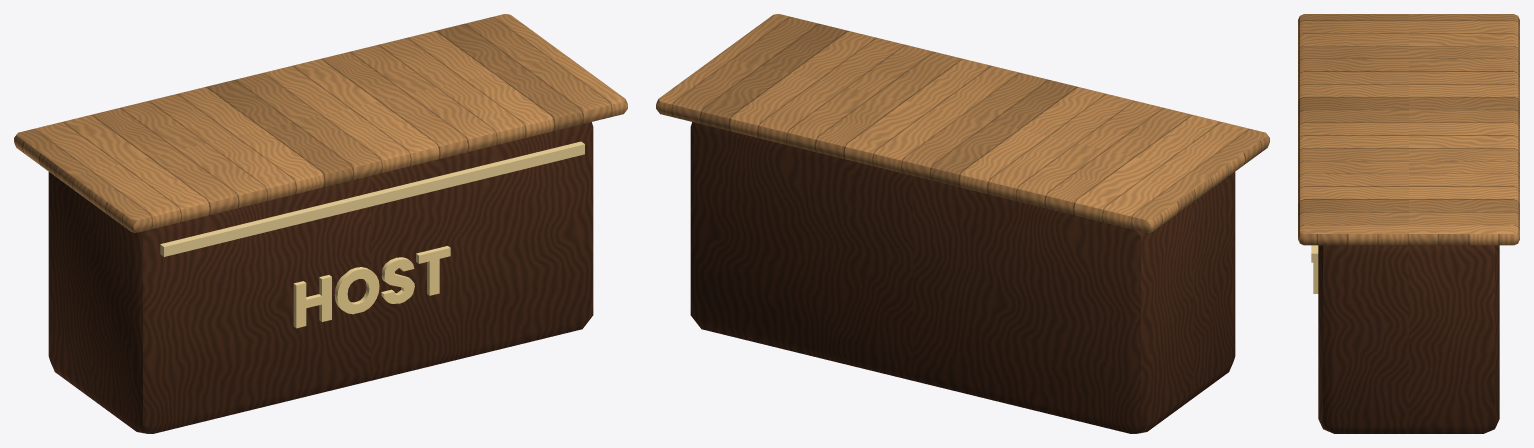
The model's file is kr_host.glb.
3 views of the same model, side by side, from view 1: azimuth 30°, elevation 25°; view 2: azimuth 150°, elevation 25°; view 3: azimuth 270°, elevation 25° (orthographic). The views are drawn at different scales.
Visible parts, largest first — view 1: kr_host_darkwood, kr_host_butcher, vc_m8_r2; view 2: kr_host_darkwood, kr_host_butcher; view 3: kr_host_butcher, kr_host_darkwood, vc_m8_r2.
Part boxes in pixels (<box>): kr_host_darkwood: <box>48,122,593,433</box>; kr_host_butcher: <box>14,14,627,232</box>; vc_m8_r2: <box>160,141,584,328</box>; kr_host_darkwood: <box>690,122,1235,433</box>; kr_host_butcher: <box>656,14,1269,232</box>; kr_host_butcher: <box>1298,14,1519,245</box>; kr_host_darkwood: <box>1318,245,1499,433</box>; vc_m8_r2: <box>1311,245,1318,293</box>.
Size of the model in its own units: 2.6 by 1.18 by 1.1.
Materials: 3 (2 with a texture image).
